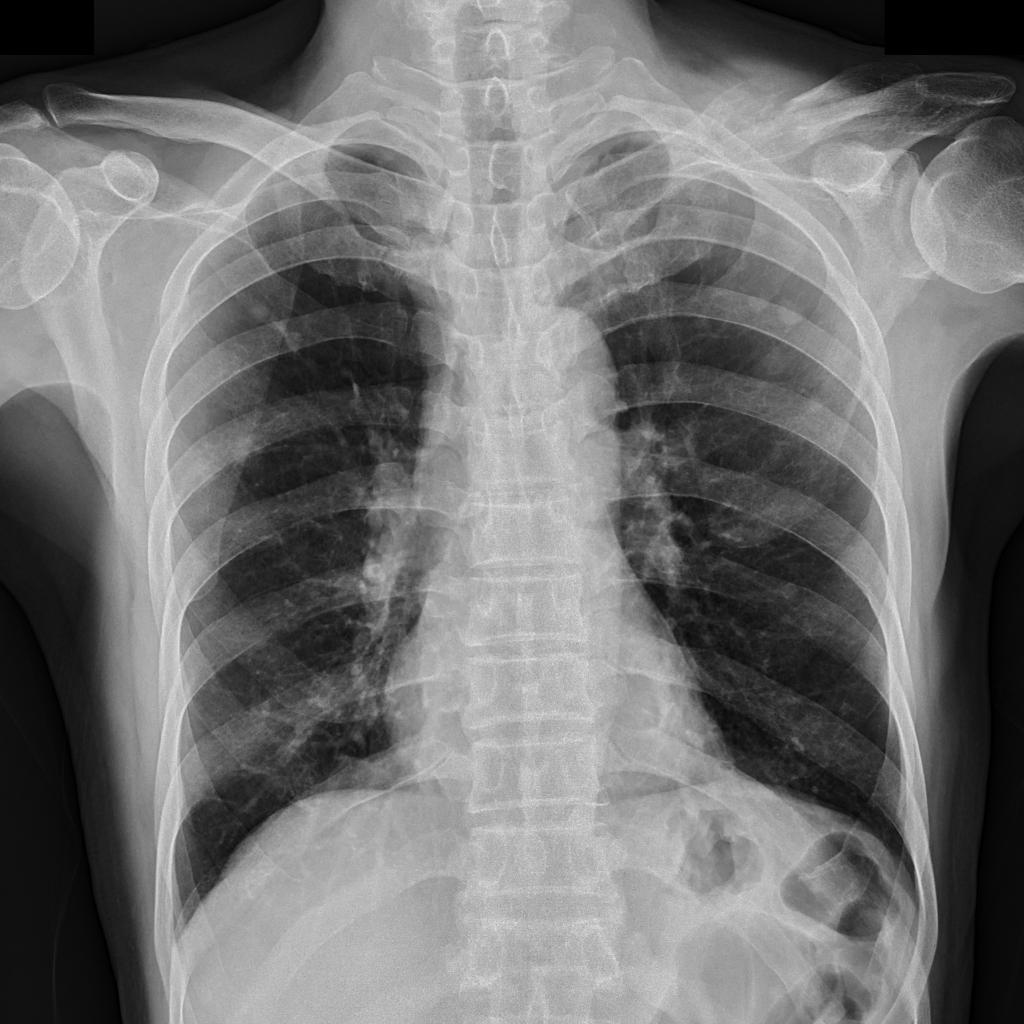Nodule: (773, 297, 804, 328), (228, 431, 253, 463), (767, 345, 790, 376), (283, 331, 306, 354), (248, 301, 271, 323), (744, 295, 770, 311), (783, 578, 797, 601), (807, 399, 824, 413), (839, 703, 853, 716), (811, 785, 821, 795)
